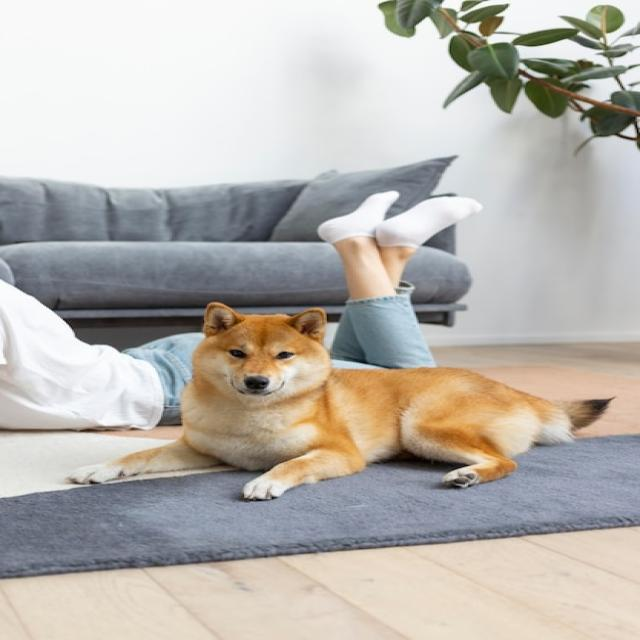Dog: (65, 302, 614, 501)
